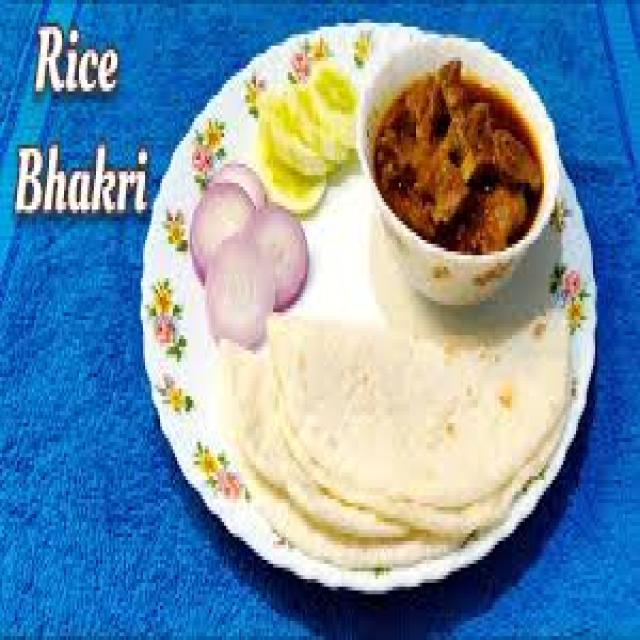RICE BHAKRI: (221, 316, 565, 556)
